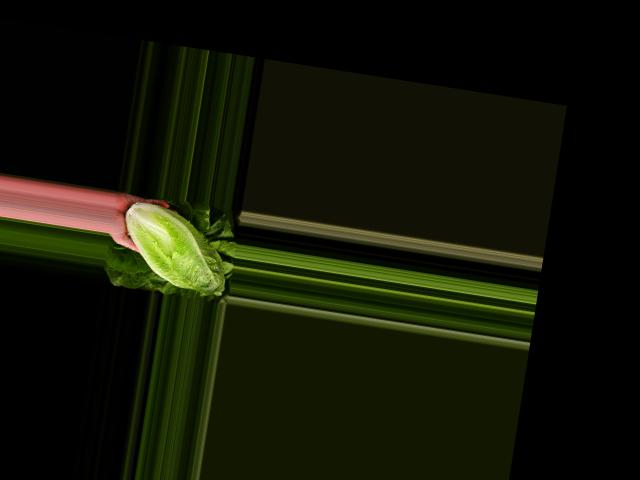lettuce: (113, 196, 236, 297)
